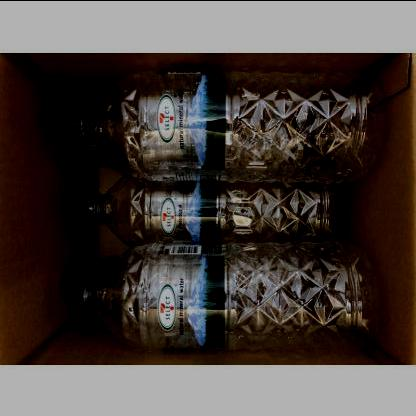bottle: (61, 62, 392, 175), (61, 242, 387, 352), (66, 165, 354, 249)
